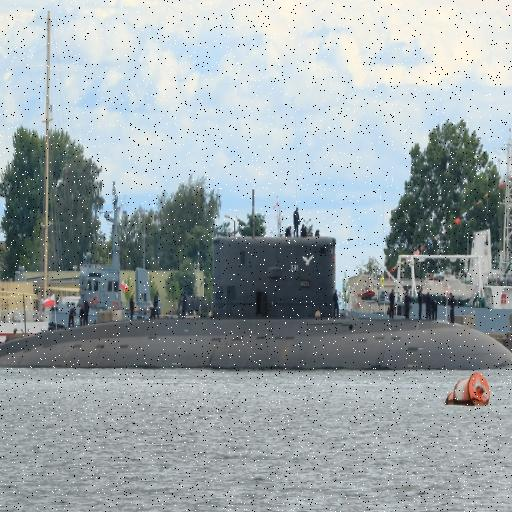submarine: (1, 227, 512, 370)
